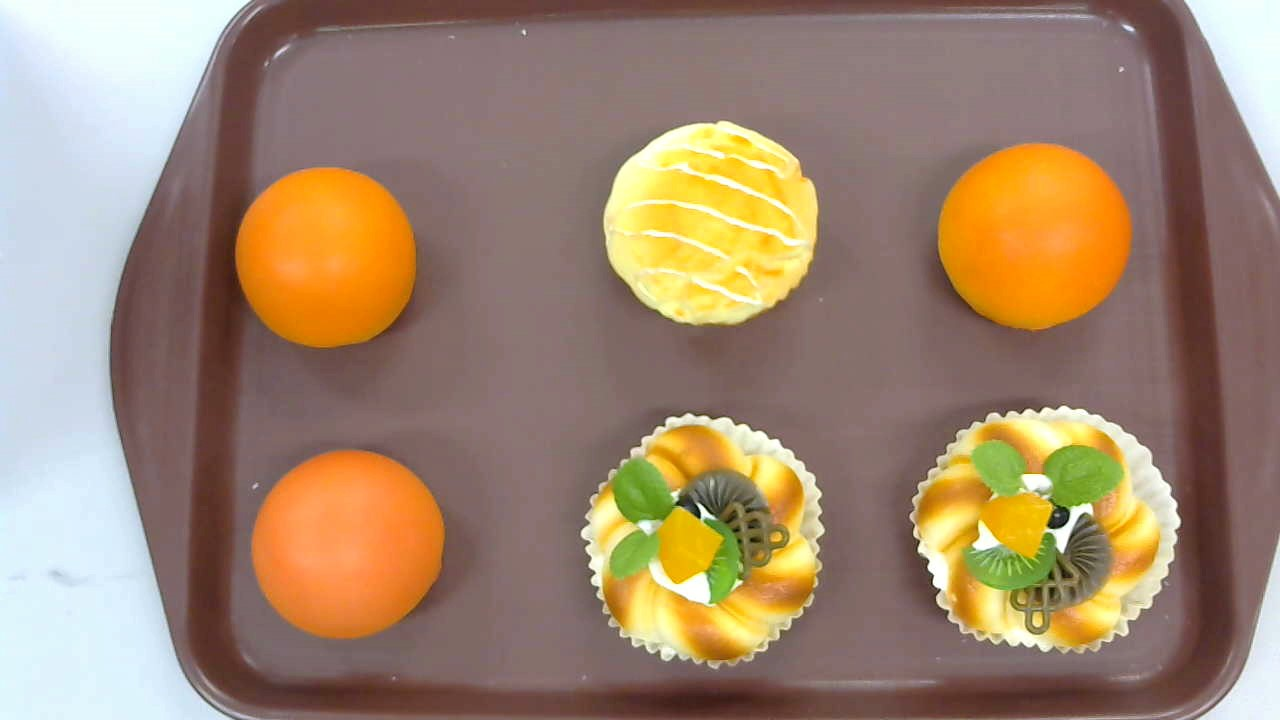bun: (937, 141, 1133, 332), (251, 450, 445, 638), (235, 167, 417, 348)
cupcake: (603, 119, 818, 329)
fruit tart: (909, 405, 1182, 654), (578, 411, 825, 669)
